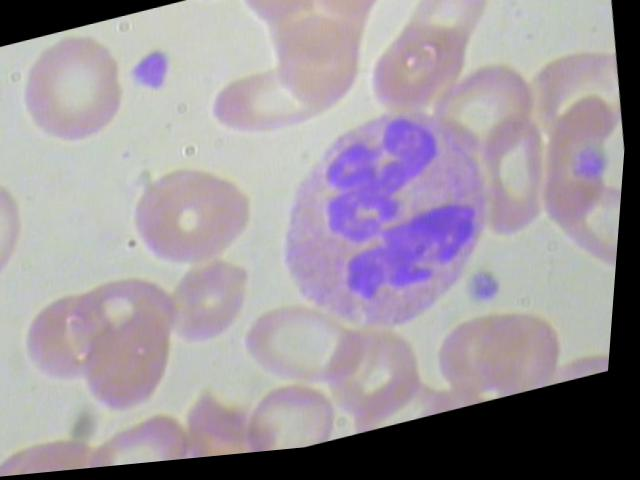Platelets: (121, 39, 193, 106), (466, 264, 521, 321), (571, 149, 615, 195)
Red Blood Cells: (121, 151, 267, 294), (0, 25, 142, 168), (240, 289, 385, 417), (193, 55, 369, 160), (262, 18, 382, 135), (428, 56, 544, 167), (318, 321, 432, 432), (477, 124, 565, 254), (159, 261, 267, 364), (81, 324, 188, 427), (480, 315, 582, 412)
White Blood Cells: (269, 102, 511, 362)
